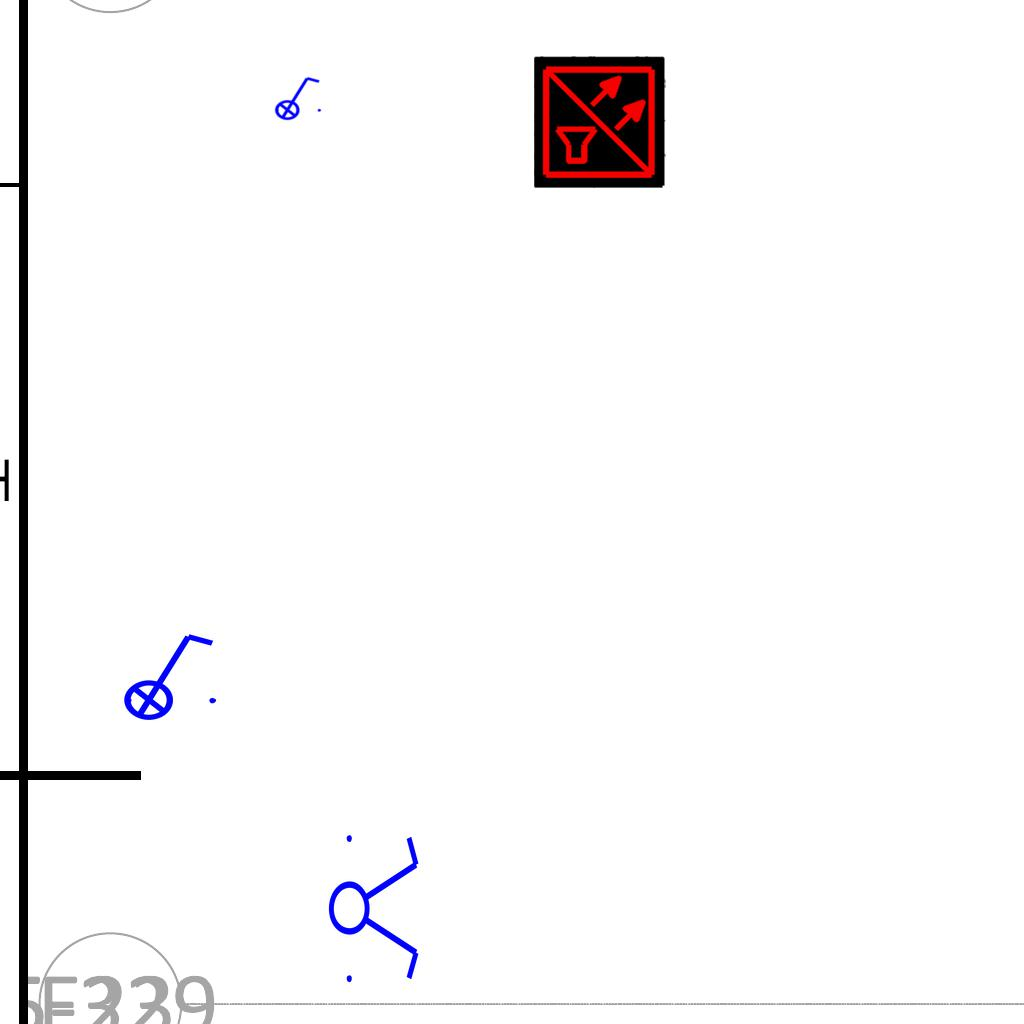Ausschalter_beleuchtet: (110, 626, 222, 722), (268, 73, 324, 121)
OKW_Multisensormelder_(Kombination_optischer_Rauch-Kahlenmonoxid_Waerme-Melder): (534, 56, 666, 188)
Serienschalter: (327, 823, 423, 991)
